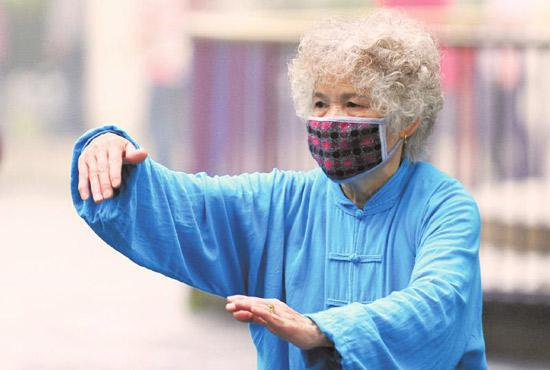OK: (310, 83, 401, 183)
